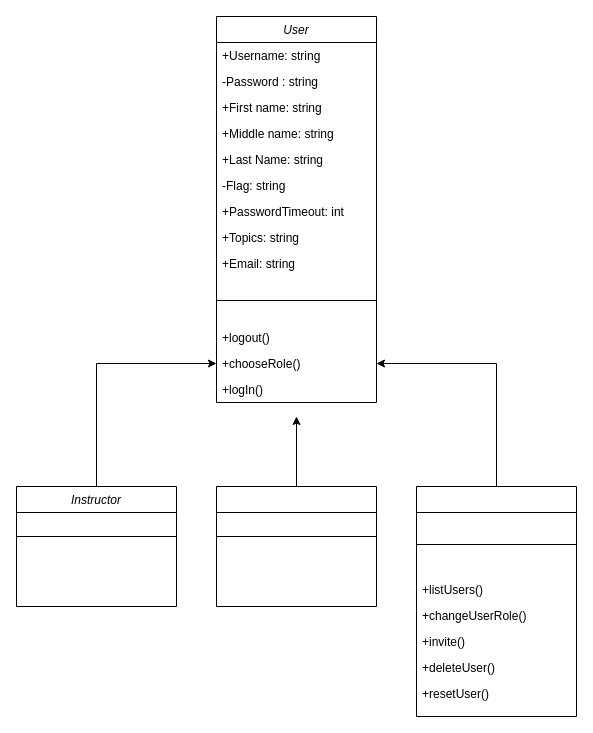
Image size: 593x733. Some labels were removed from this diagram. The box of each missing label's shape, as (x1, y1, x2, y2) in pixels:
Admin: (416, 486, 576, 716)
Student: (216, 486, 376, 606)
